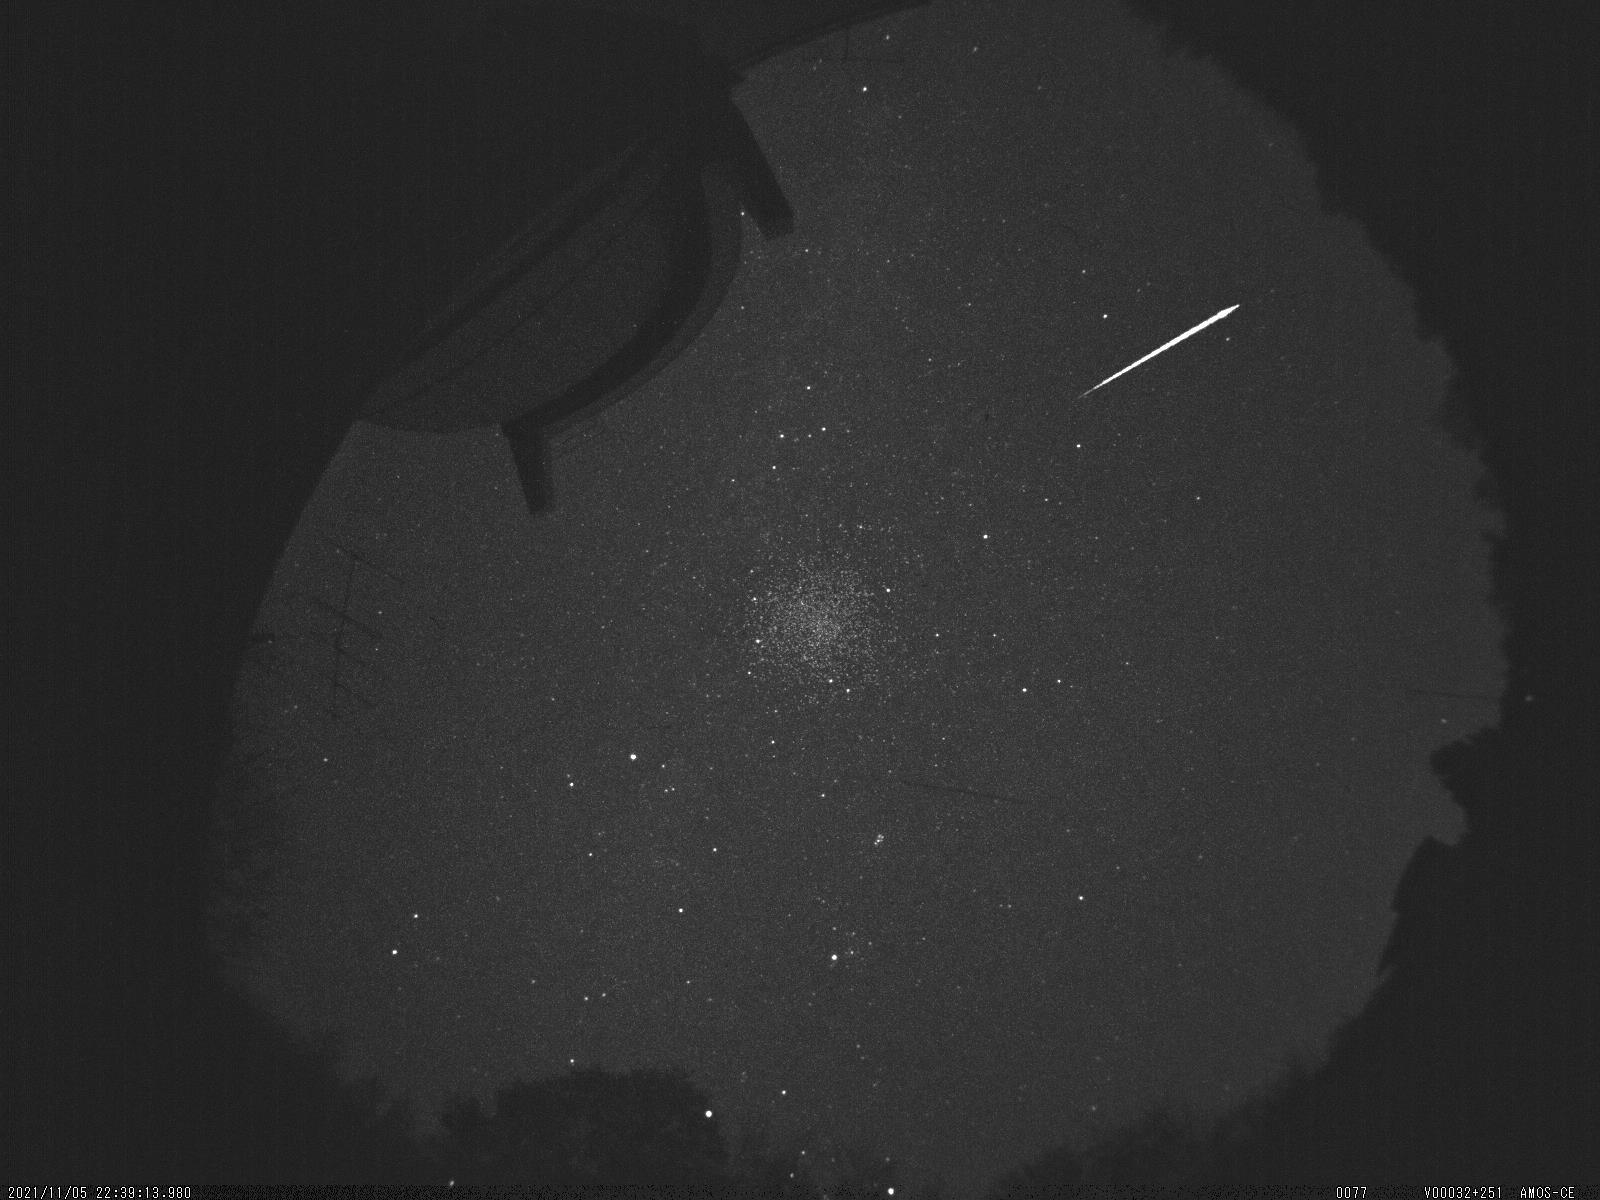Meteor: (1070, 294, 1249, 406)
